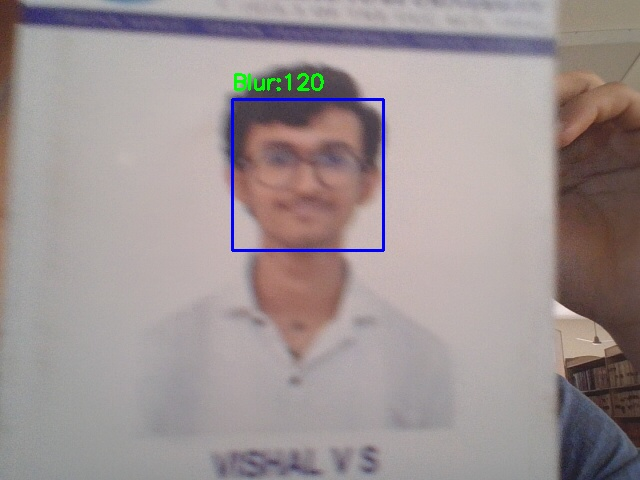fake: (232, 99, 383, 250)
